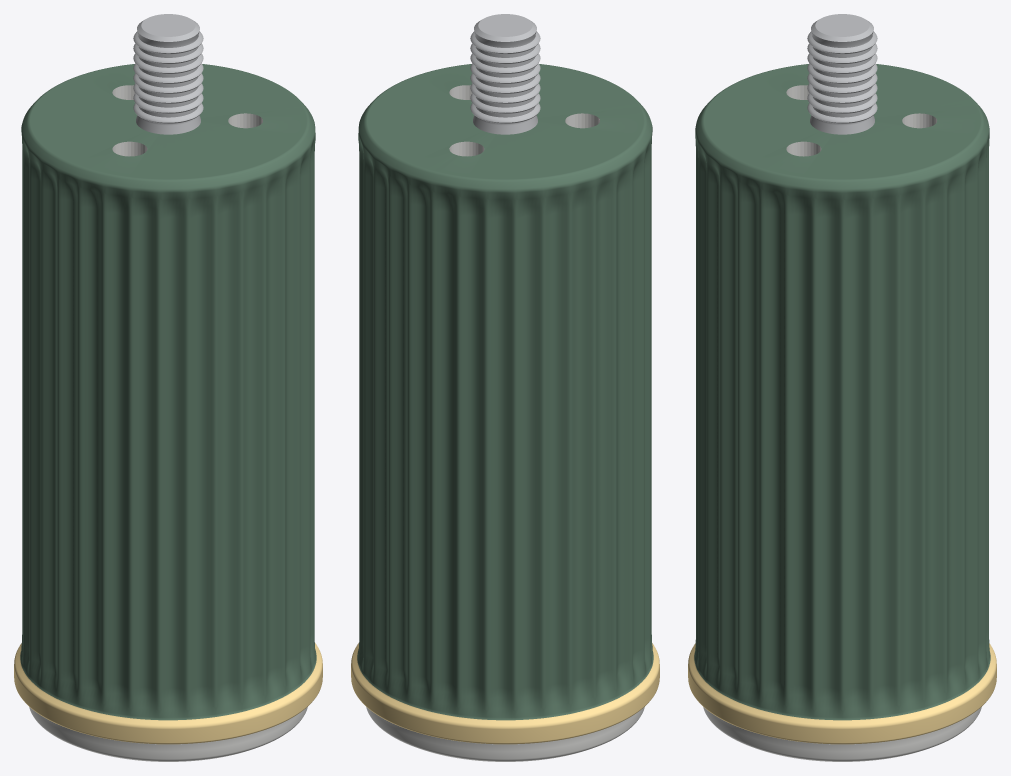
The model's file is sofa-legs-1506.glb.
The picture shows the model from 3 angles, left to right: view 1: azimuth 30°, elevation 25°; view 2: azimuth 150°, elevation 25°; view 3: azimuth 270°, elevation 25°; orthographic projection.
Visible parts, largest first — view 1: Body, Stud; view 2: Body, Stud; view 3: Body, Stud.
Boxes of the visible parts, x1,y1,x2,y2 form: Body: (14,64,322,761); Stud: (133,14,203,134); Body: (351,64,659,761); Stud: (470,14,540,134); Body: (688,64,996,761); Stud: (807,14,877,134).
Bounding box in the file's own units: 0.0352 × 0.0857 × 0.0352.
